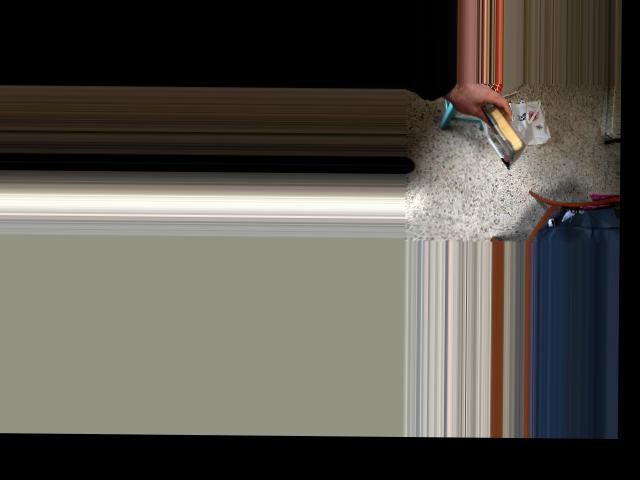cheese: (474, 86, 528, 169)
